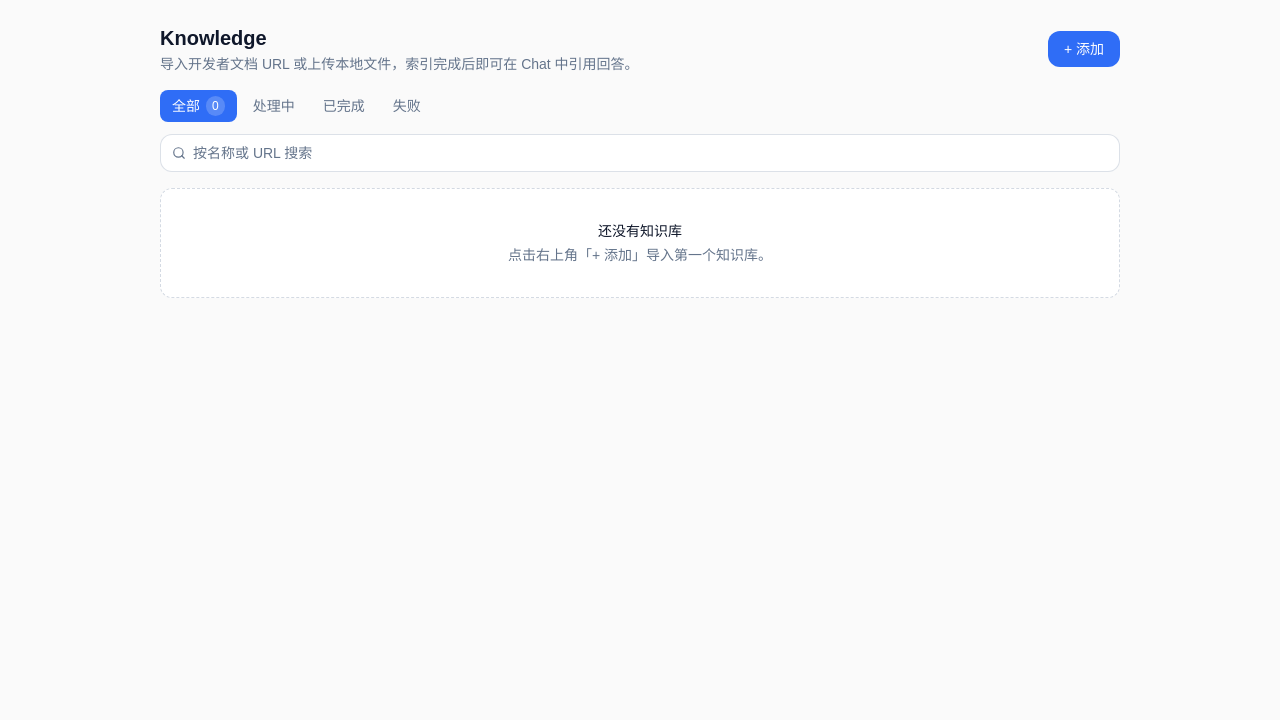
Test: KnowledgePage › imports a URL and shows the created pending knowledge base
Expected: the text "还没有知识库" is shown, [598, 223, 682, 239]
Click the button "+ 添加" at (1084, 49), box [1048, 31, 1120, 67]
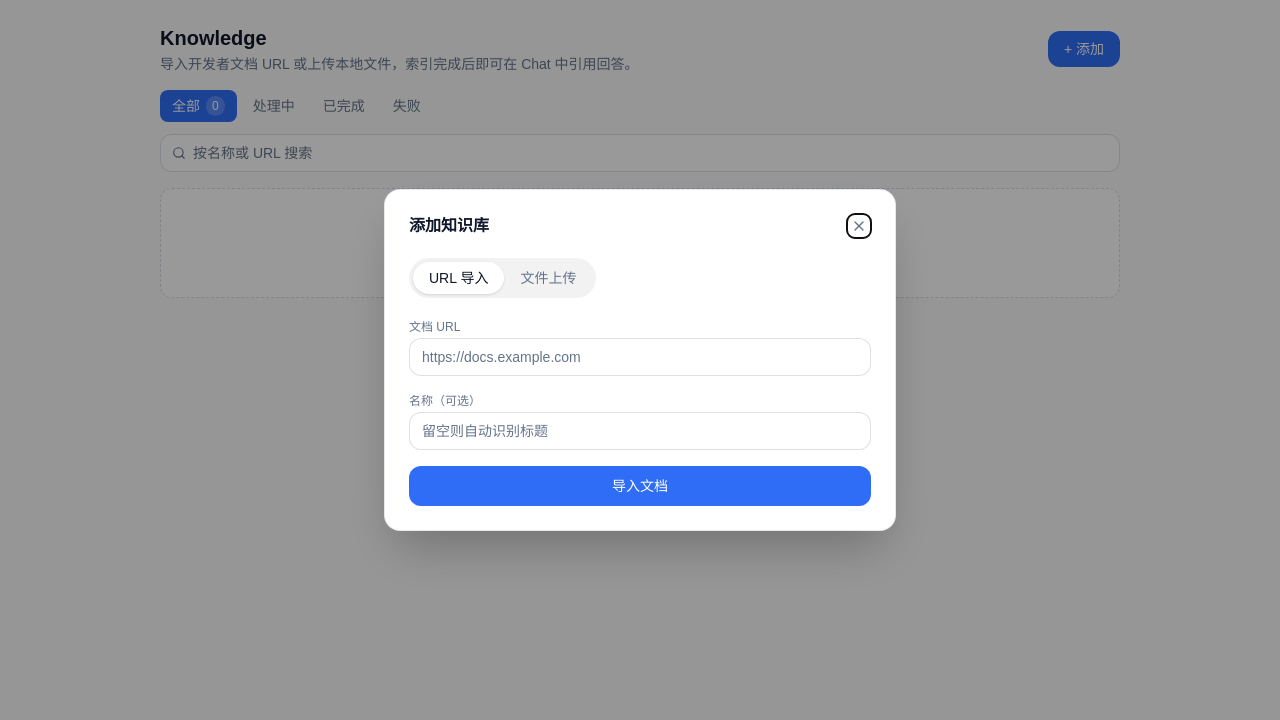
Type "https://fastapi.tiangolo.com" into the field labelled "文档 URL" at (640, 357), box [409, 338, 871, 376]
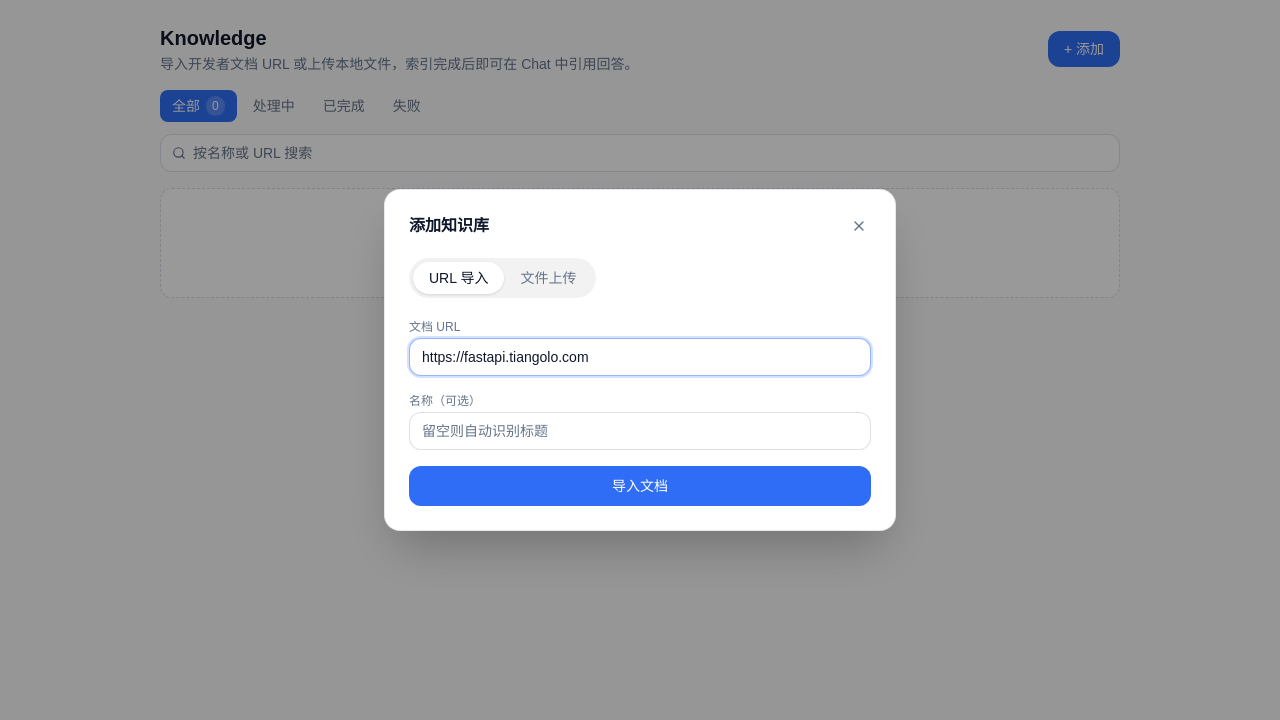
Click the button "导入文档" at (640, 486), box [409, 466, 871, 506]
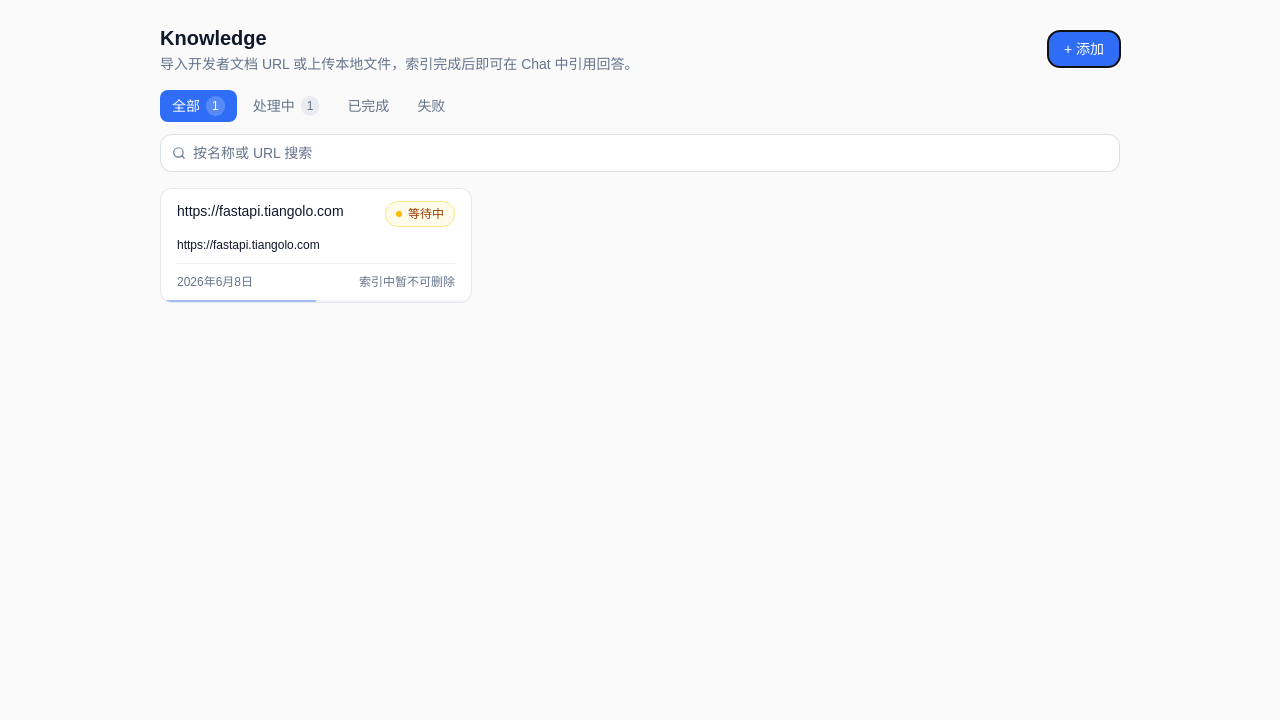
Expected: the link "https://fastapi.tiangolo.com" is shown, [177, 238, 320, 252]
